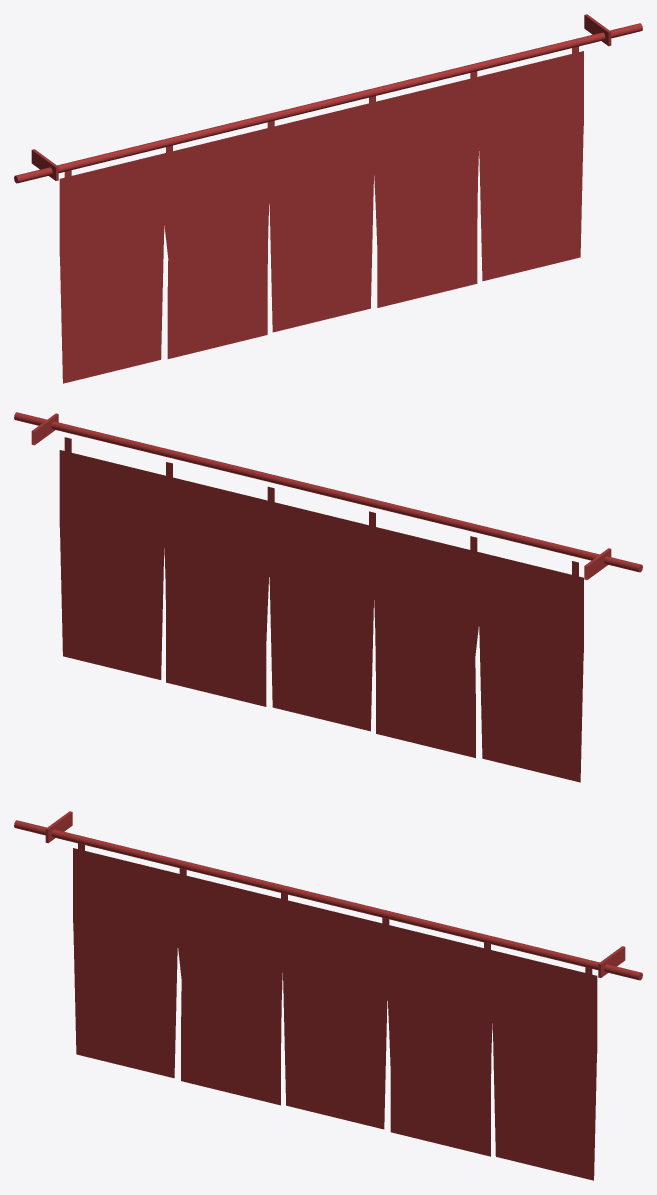
File: SM_storefront_cloth_01.fbx
3 renders of one model, top to bottom at view 1: azimuth 30°, elevation 25°; view 2: azimuth 150°, elevation 25°; view 3: azimuth 330°, elevation 25°, orthographic.
Visible parts, largest first — view 1: Plane007; view 2: Plane007; view 3: Plane007.
Part boxes in pixels (x1,y1,x2,y2): Plane007: (14,14,642,383); Plane007: (14,412,642,782); Plane007: (14,811,642,1180).
Size of the model in its own units: 210 by 14.09 by 74.15.
